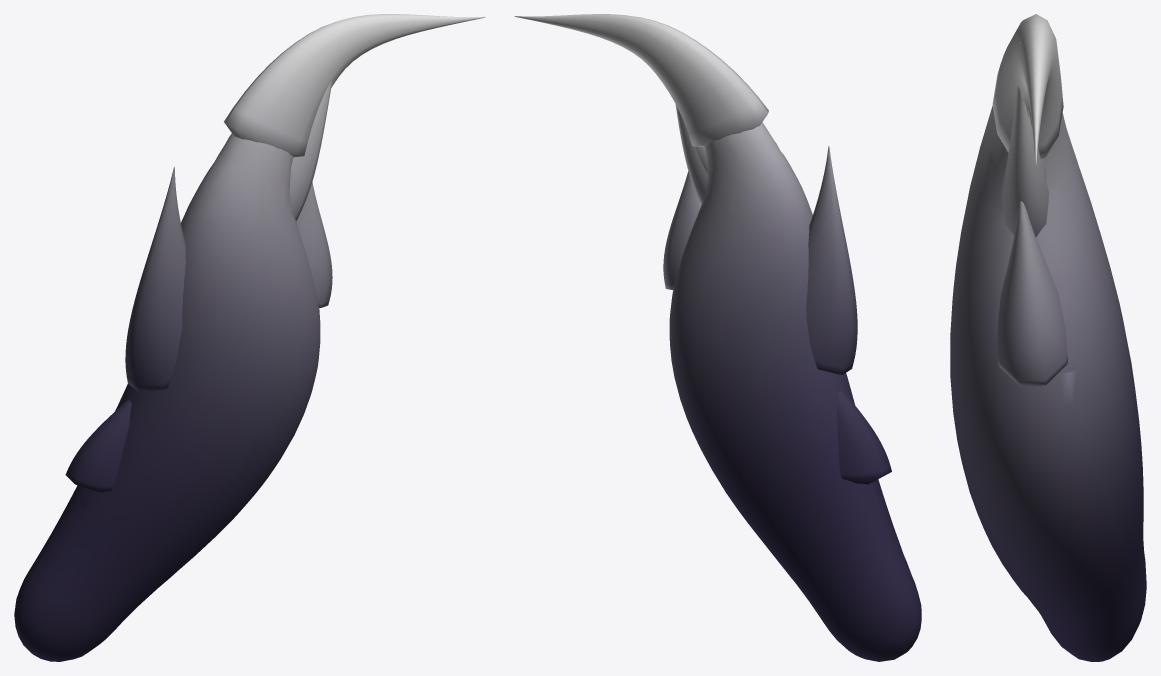
File: monarca_chama_costas_d.fbx
3 views of the same model, side by side, from view 1: azimuth 30°, elevation 25°; view 2: azimuth 150°, elevation 25°; view 3: azimuth 270°, elevation 25° (orthographic). The views are drawn at different scales.
Parts seen in each view (by area): view 1: monarca_chama_costas_d; view 2: monarca_chama_costas_d; view 3: monarca_chama_costas_d.
Boxes of the visible parts, box(x1,y1,x2,y2) form: monarca_chama_costas_d: box(14, 14, 485, 661); monarca_chama_costas_d: box(514, 14, 921, 661); monarca_chama_costas_d: box(950, 14, 1146, 661).
Bounding box in the file's own units: 3.46 × 4.39 × 0.982.
